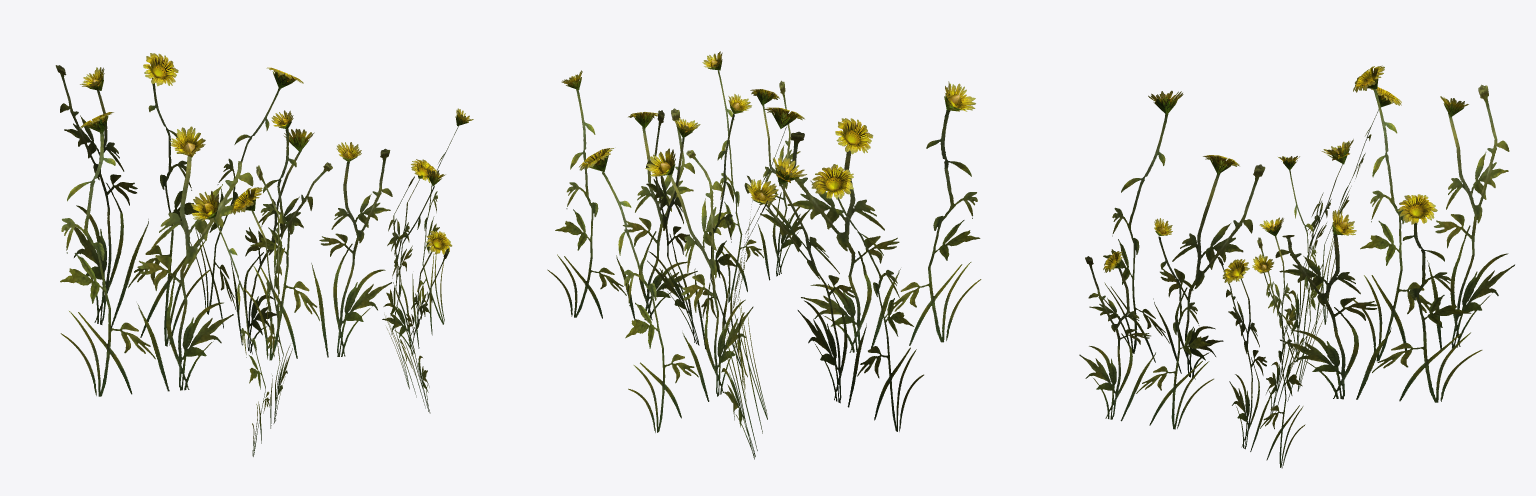
The model's file is bg_anh_foliage_te_f02_sm_old.FBX.
The picture shows the model from 3 angles, left to right: view 1: azimuth 30°, elevation 25°; view 2: azimuth 150°, elevation 25°; view 3: azimuth 270°, elevation 25°; orthographic projection. The views are drawn at different scales.
Visible parts, largest first — view 1: bg_anh_foliage_te_f02_sm_old; view 2: bg_anh_foliage_te_f02_sm_old; view 3: bg_anh_foliage_te_f02_sm_old.
Part boxes in pixels (x1,y1,x2,y2): bg_anh_foliage_te_f02_sm_old: [55, 53, 473, 456]; bg_anh_foliage_te_f02_sm_old: [547, 51, 981, 459]; bg_anh_foliage_te_f02_sm_old: [1079, 65, 1514, 468].
Size of the model in its own units: 110 by 80.54 by 105.
